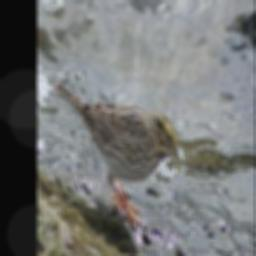Sparrow: (55, 79, 182, 225)
